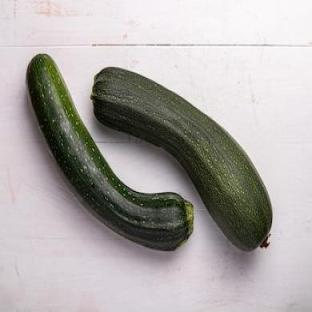Zucchini: (92, 68, 271, 250), (27, 54, 193, 249)
